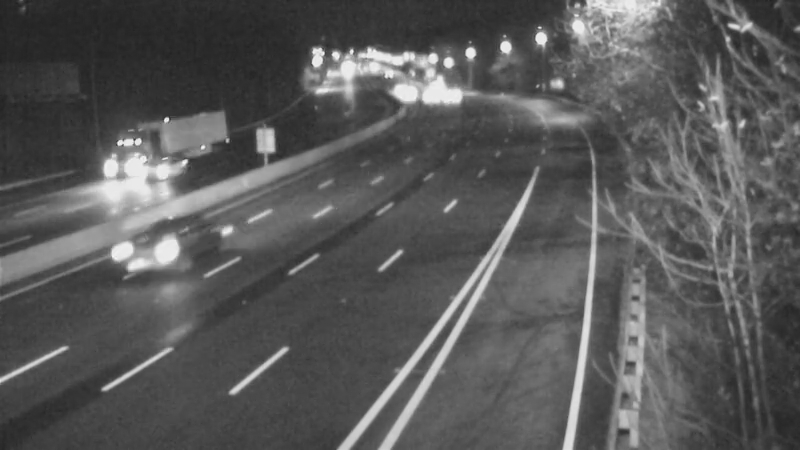vehicle: (111, 216, 191, 296), (89, 122, 169, 202), (125, 129, 205, 209), (408, 62, 458, 112), (382, 68, 432, 118), (420, 67, 470, 117), (402, 71, 452, 121)
